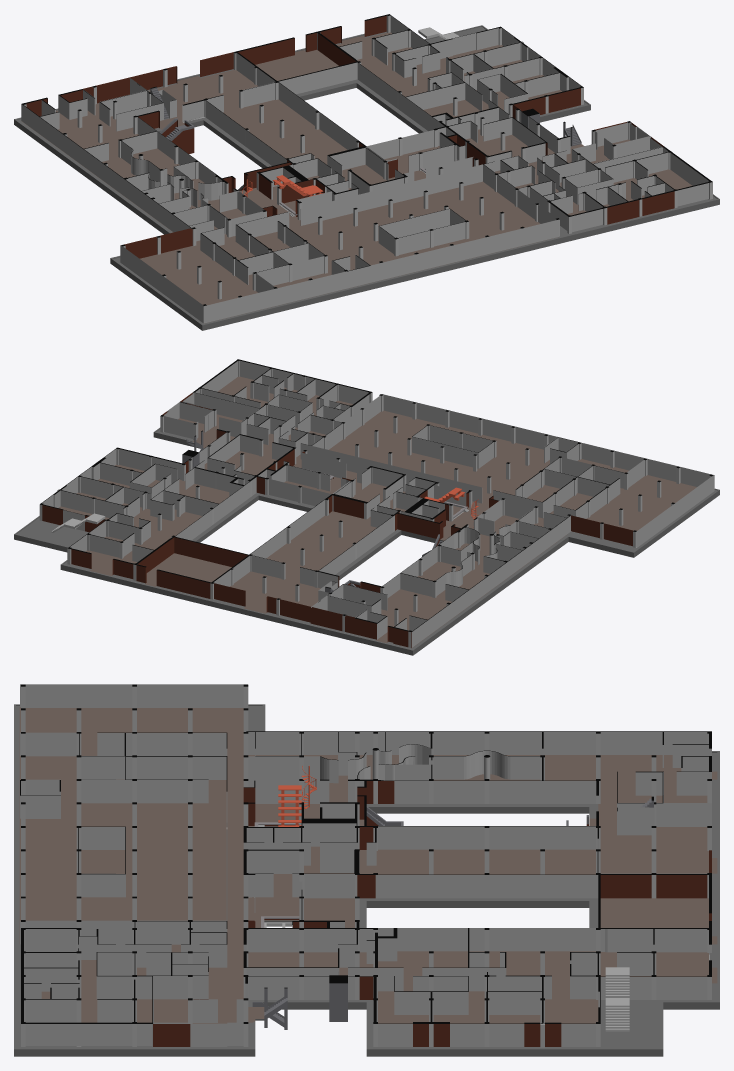
Rendered from 1st_floor_Final.glb.
3 renders of one model, top to bottom at view 1: azimuth 30°, elevation 25°; view 2: azimuth 150°, elevation 25°; view 3: azimuth 270°, elevation 25°, orthographic. The views are drawn at different scales.
Visible parts, largest first — view 1: Plane.654, Plane.562, Plane.662, Plane.672, Plane.667, Plane.673, Plane.671, Plane.675, Plane.668, Plane.688, Plane.657, Plane.692 (+38 smaller); view 2: Plane.654, Plane.562, Plane.662, Plane.672, Plane.667, Plane.671, Plane.673, Plane.668, Plane.675, Plane.688, Plane.674, Plane.693 (+33 smaller); view 3: Plane.654, Plane.562, Plane.672, Plane.667, Plane.662, Plane.668, Plane.013, Plane.671, Plane.675, Plane.688, Plane.673, Plane.682 (+48 smaller).
Boxes of the visible parts, x1,y1,x2,y2 form: Plane.654: (271, 157, 559, 282); Plane.562: (14, 25, 719, 330); Plane.662: (120, 228, 276, 323); Plane.672: (205, 82, 365, 165); Plane.667: (83, 131, 237, 230); Plane.673: (236, 32, 357, 94); Plane.671: (129, 52, 275, 122); Plane.675: (339, 39, 468, 113); Plane.668: (39, 95, 156, 165); Plane.688: (448, 116, 558, 171); Plane.657: (256, 256, 347, 305); Plane.692: (367, 130, 455, 178); Plane.654: (301, 394, 566, 504); Plane.562: (14, 427, 719, 655); Plane.662: (571, 458, 714, 547); Plane.672: (249, 494, 393, 582); Plane.667: (401, 517, 551, 605); Plane.671: (213, 555, 339, 622); Plane.673: (135, 536, 249, 598); Plane.668: (365, 573, 469, 642); Plane.675: (118, 492, 219, 560); Plane.688: (199, 432, 295, 475); Plane.674: (68, 534, 153, 578); Plane.693: (333, 466, 405, 518); Plane.654: (20, 780, 255, 944); Plane.562: (14, 704, 719, 1056); Plane.672: (357, 826, 598, 898); Plane.667: (301, 731, 542, 803); Plane.662: (20, 684, 247, 755); Plane.668: (542, 731, 711, 803); Plane.013: (81, 755, 375, 1022); Plane.671: (596, 803, 711, 873); Plane.675: (468, 928, 653, 999); Plane.688: (243, 928, 357, 999); Plane.673: (598, 874, 711, 951); Plane.682: (375, 928, 468, 991).
Bounding box in the file's own units: 4.4 × 0.4251 × 3.8.
